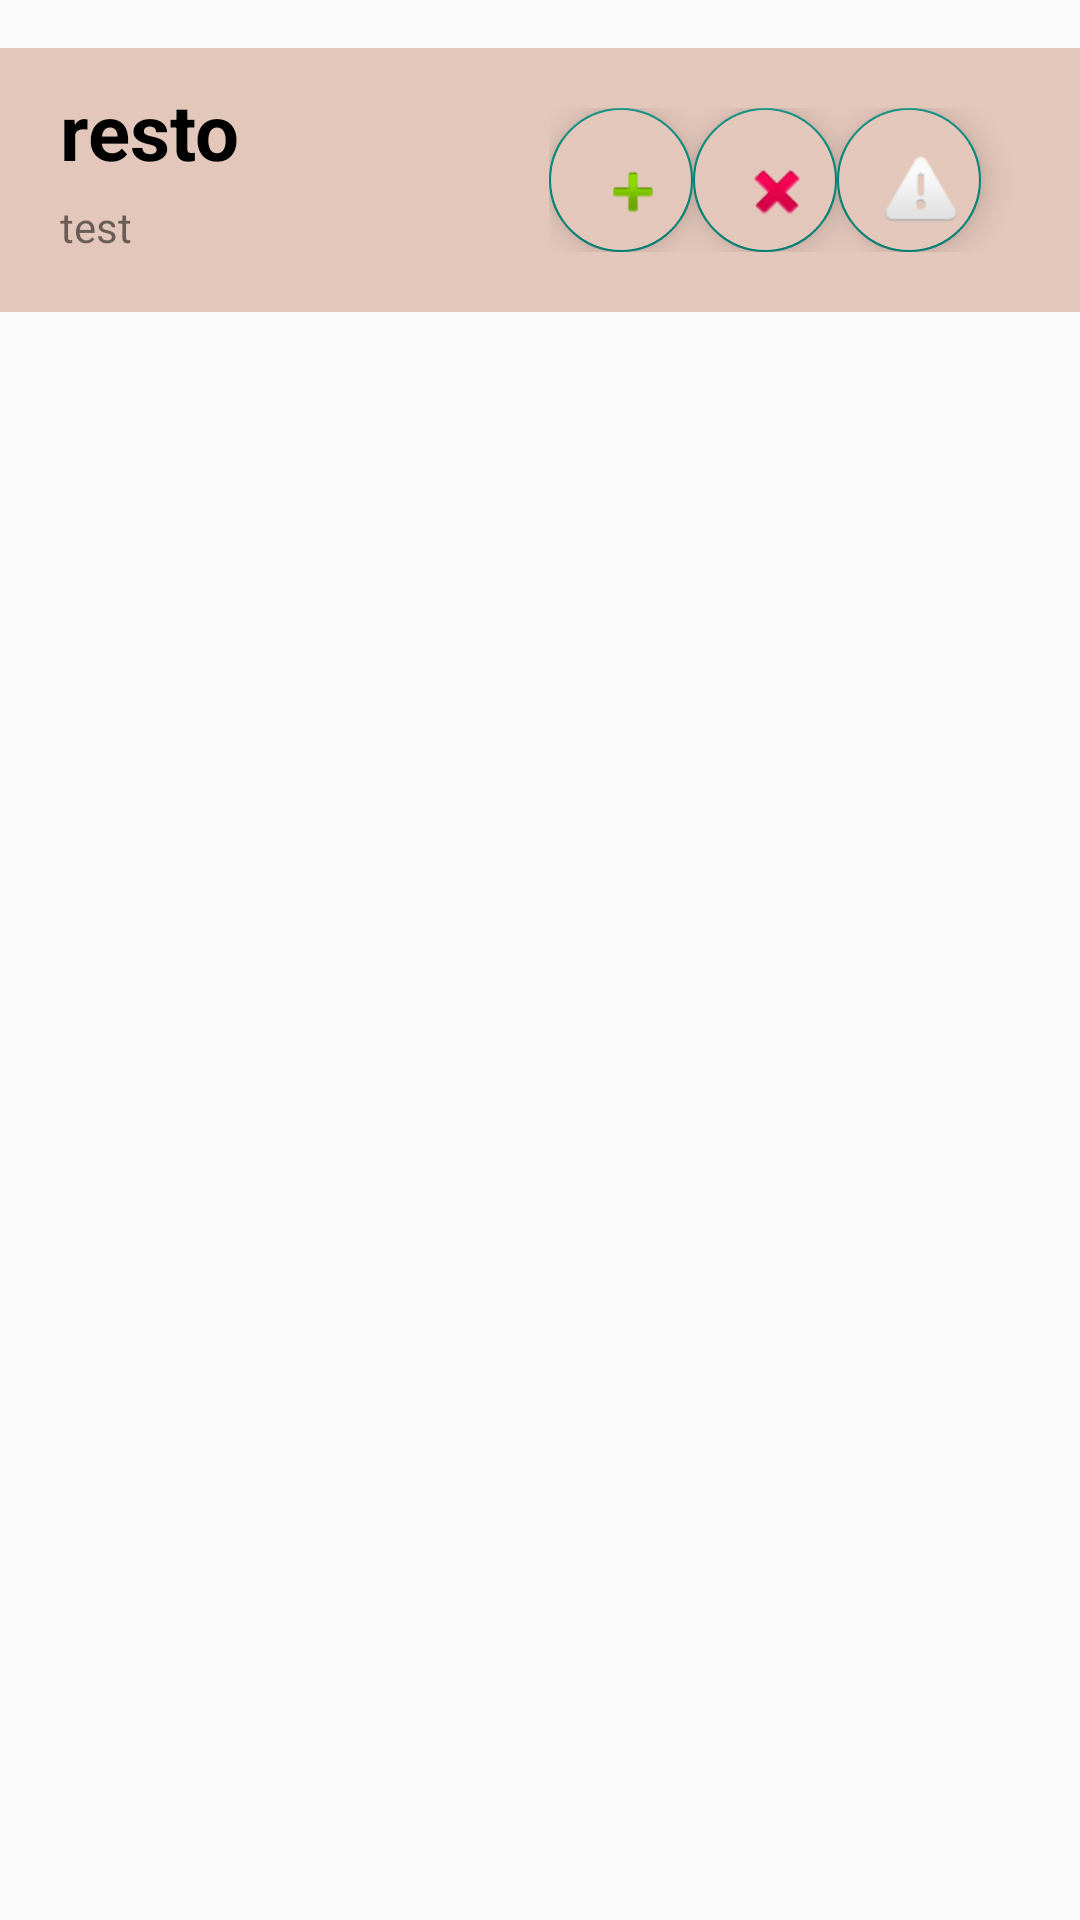

Icons on this 1080x1920 Android screen, each with the point to tap as [x,y]:
cancel colaboration: [765,180]
colaborate: [621,180]
report restaurant: [920,189]
